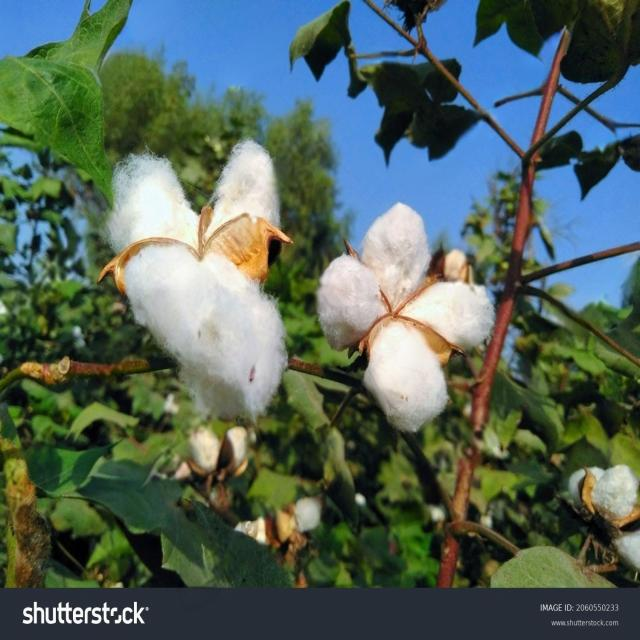Leaf: (91, 121, 299, 443), (307, 193, 506, 447), (562, 447, 638, 593)
